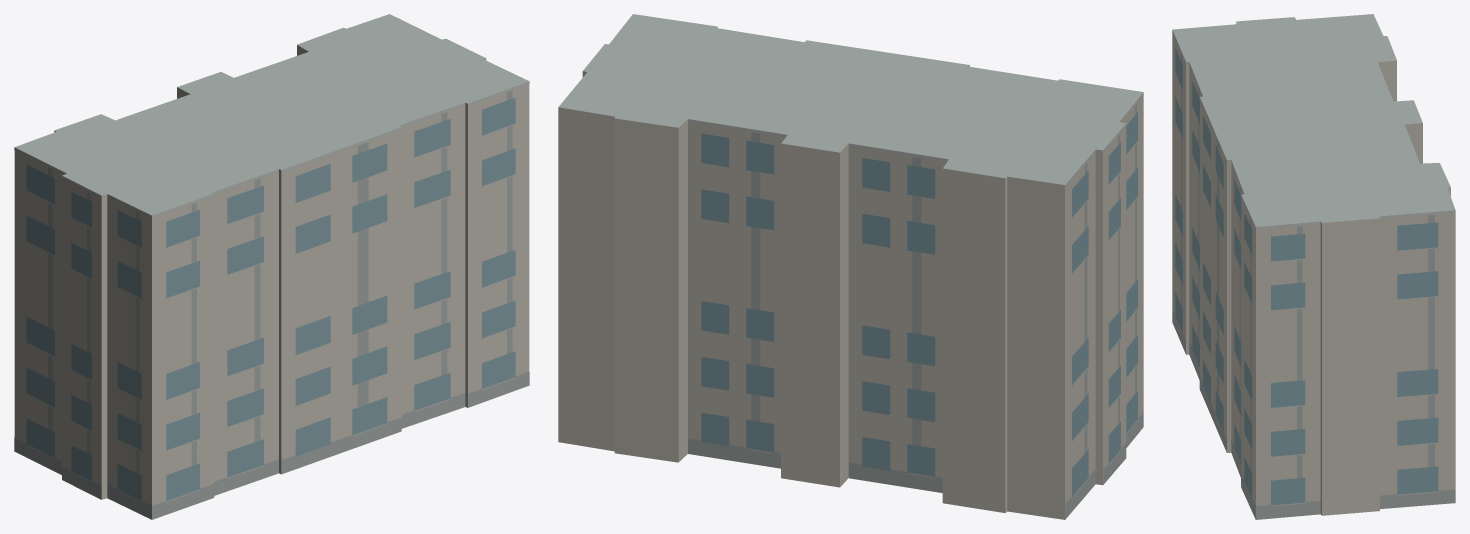
Rendered from survey-upis-33012828.glb.
The picture shows the model from 3 angles, left to right: view 1: azimuth 30°, elevation 25°; view 2: azimuth 150°, elevation 25°; view 3: azimuth 270°, elevation 25°; orthographic projection. The views are drawn at different scales.
Visible parts, largest first — view 1: survey-upis-33012828.tmp; view 2: survey-upis-33012828.tmp; view 3: survey-upis-33012828.tmp.
Part boxes in pixels (x1,y1,x2,y2): survey-upis-33012828.tmp: (14, 14, 529, 519); survey-upis-33012828.tmp: (558, 14, 1143, 519); survey-upis-33012828.tmp: (1172, 14, 1455, 519).
Bounding box in the file's own units: 37.47 × 24 × 21.05.
